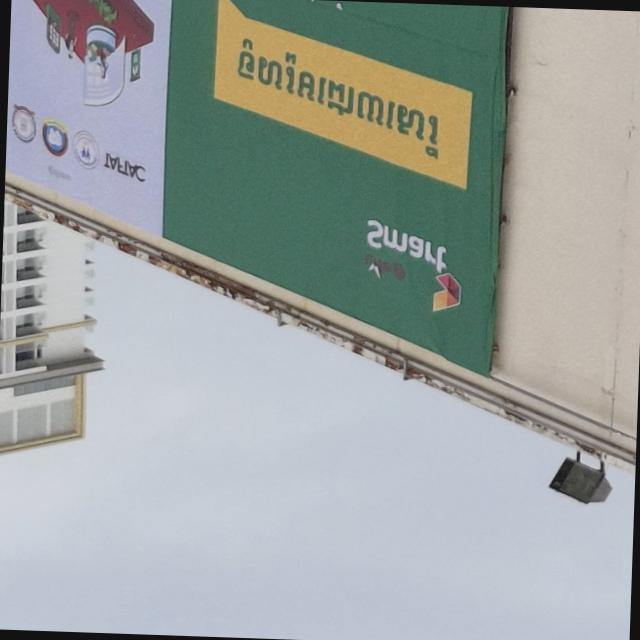Yolov11_80vkh: (207, 13, 483, 196)
